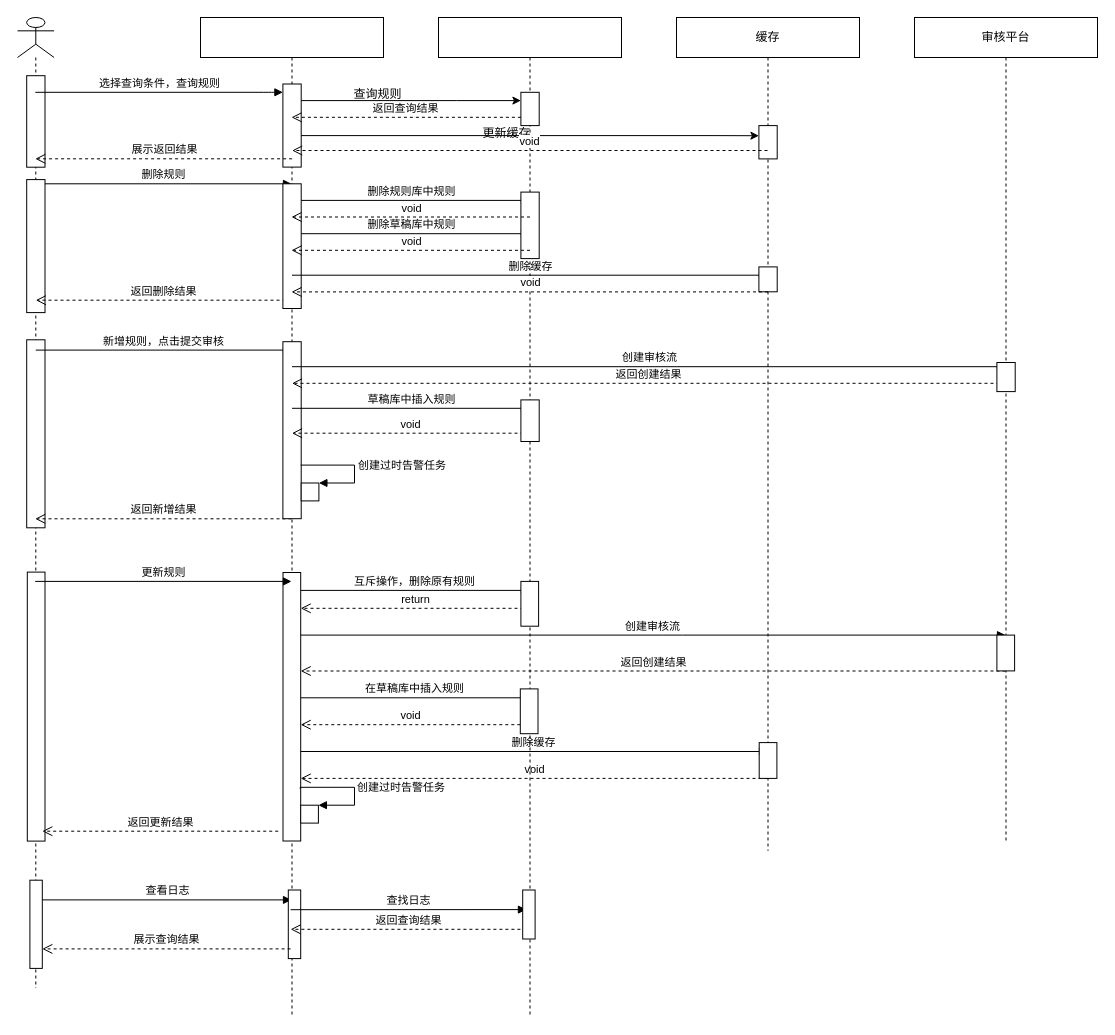
The diagram is 1115 pixels wide and 1035 high, and some of its shapes have lost their labels. The box of each missing label's shape, as (x1, y1, x2, y2) in pixels:
数据库: (438, 16, 622, 1018)
规则处理模块: (200, 16, 384, 1018)
